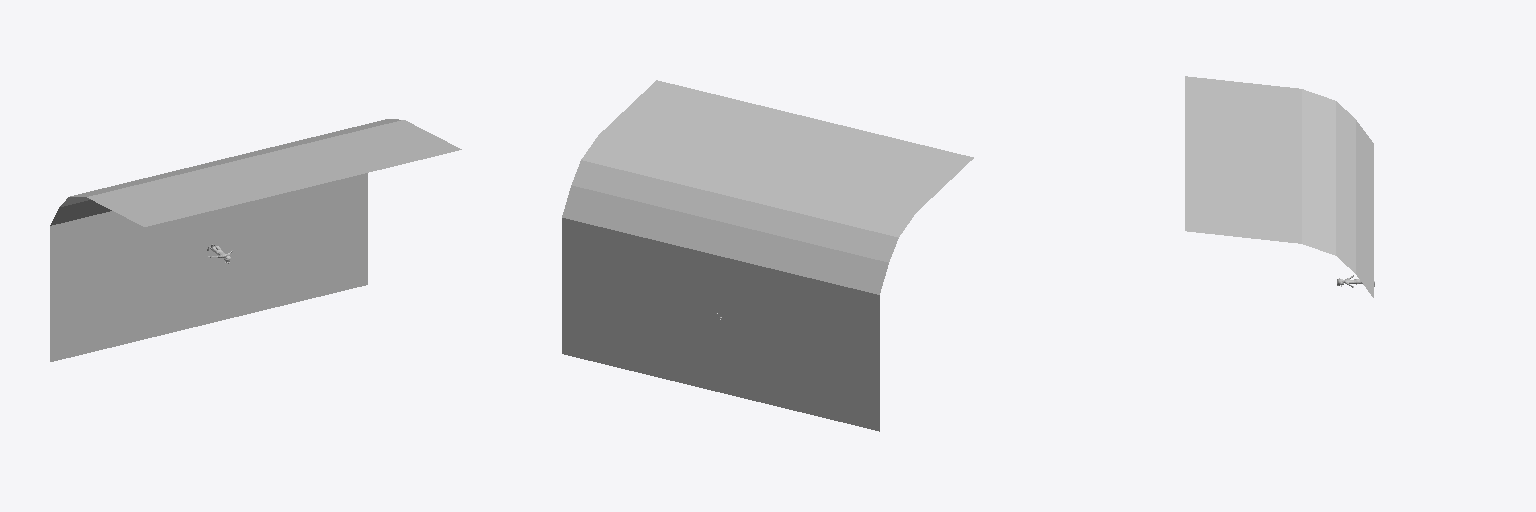
Rendered from small_boy_2012.obj.
3 views of the same model, side by side, from view 1: azimuth 30°, elevation 25°; view 2: azimuth 150°, elevation 25°; view 3: azimuth 270°, elevation 25° (orthographic).
Parts seen in each view (by area): view 1: Plane001; view 2: Plane001; view 3: Plane001.
Boxes of the visible parts, x1,y1,x2,y2 form: Plane001: [50, 119, 461, 361]; Plane001: [562, 80, 973, 431]; Plane001: [1185, 76, 1373, 297].
Size of the model in its own units: 1337 by 822 by 693.